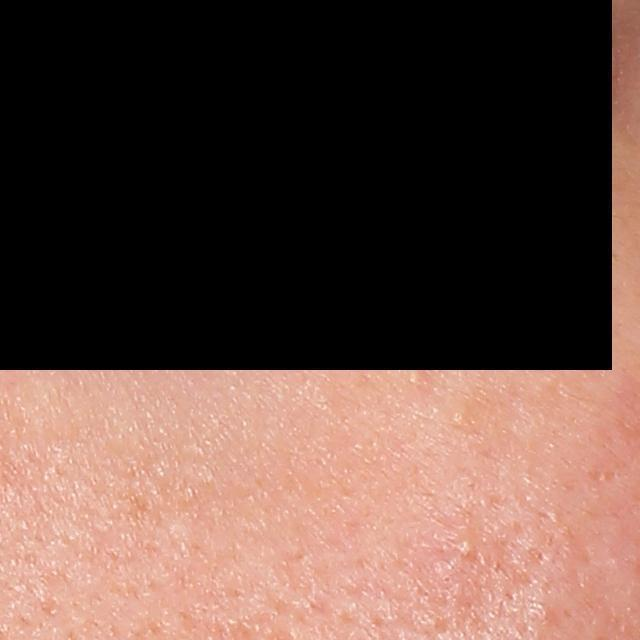comedo: (450, 532, 478, 559)
